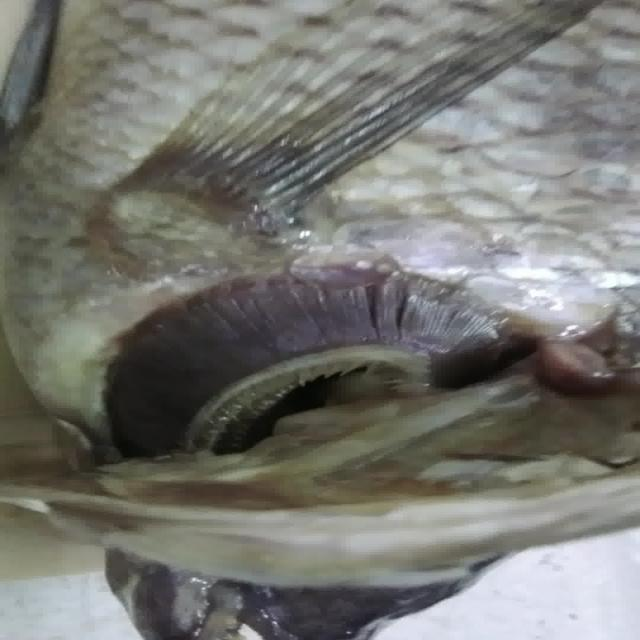Non-Fresh: (65, 254, 551, 476)
